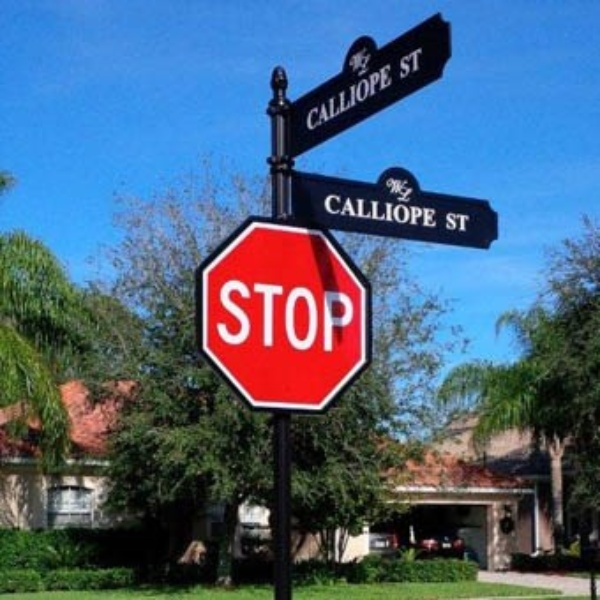text: (305, 59, 320, 136), (321, 59, 336, 136), (337, 59, 352, 136), (353, 59, 368, 136), (369, 59, 384, 136), (225, 278, 240, 353), (241, 278, 256, 353), (257, 278, 272, 353), (273, 278, 288, 353), (289, 278, 304, 353), (305, 278, 320, 353), (321, 278, 336, 353), (337, 278, 352, 353), (385, 59, 398, 136), (401, 45, 416, 82), (321, 191, 336, 226), (337, 191, 352, 226), (353, 191, 368, 226), (369, 191, 384, 226), (385, 191, 400, 226), (401, 191, 416, 226), (417, 191, 432, 226), (219, 278, 224, 353), (417, 45, 426, 82), (353, 278, 357, 353), (449, 211, 464, 230), (301, 59, 304, 136), (433, 191, 436, 226), (465, 211, 470, 230), (398, 45, 400, 82), (445, 211, 448, 230)
